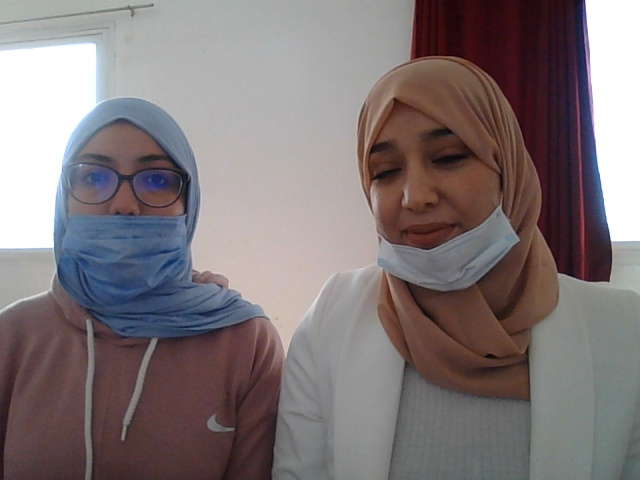mask_weared_incorrect: (335, 63, 536, 300), (51, 97, 202, 315)
